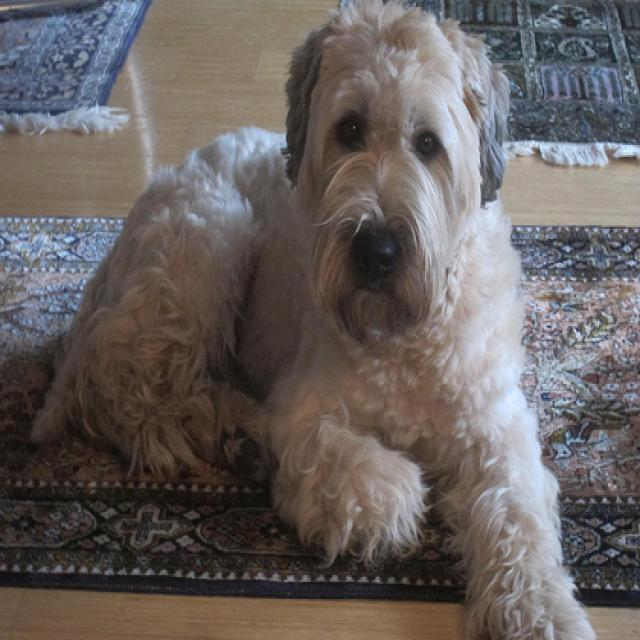dog-wheaten_terrier: (14, 2, 608, 637)
